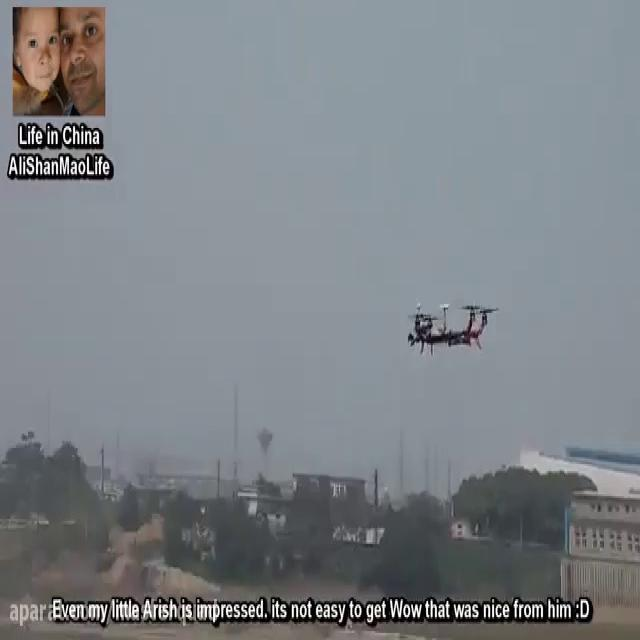drone: (404, 295, 502, 359)
